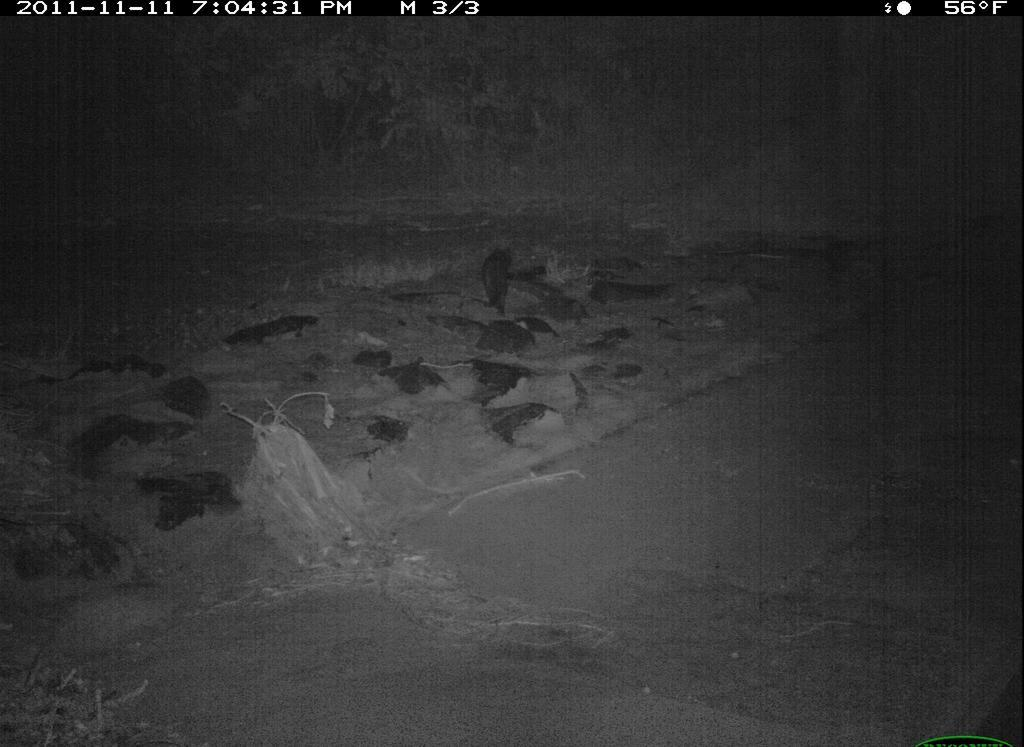cat: (464, 236, 537, 319)
